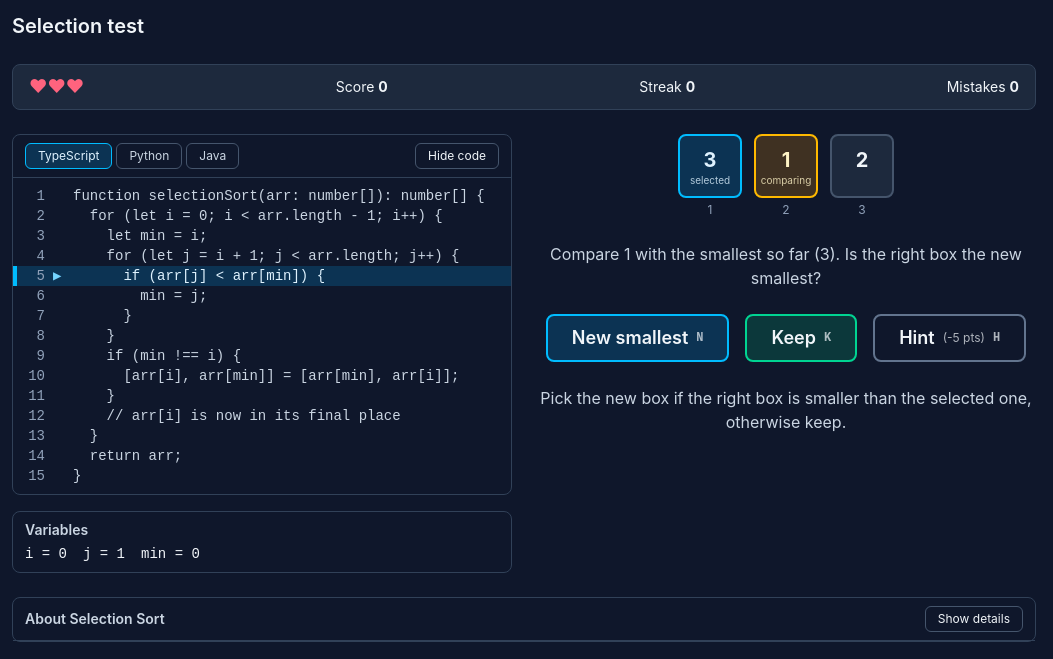
Scenario: PlayScreen with selection sort › a wrong answer costs a life
Step 1. Click the button "Keep K" → {"x": 801, "y": 338}, box x1=746 y1=314 x2=857 y2=362
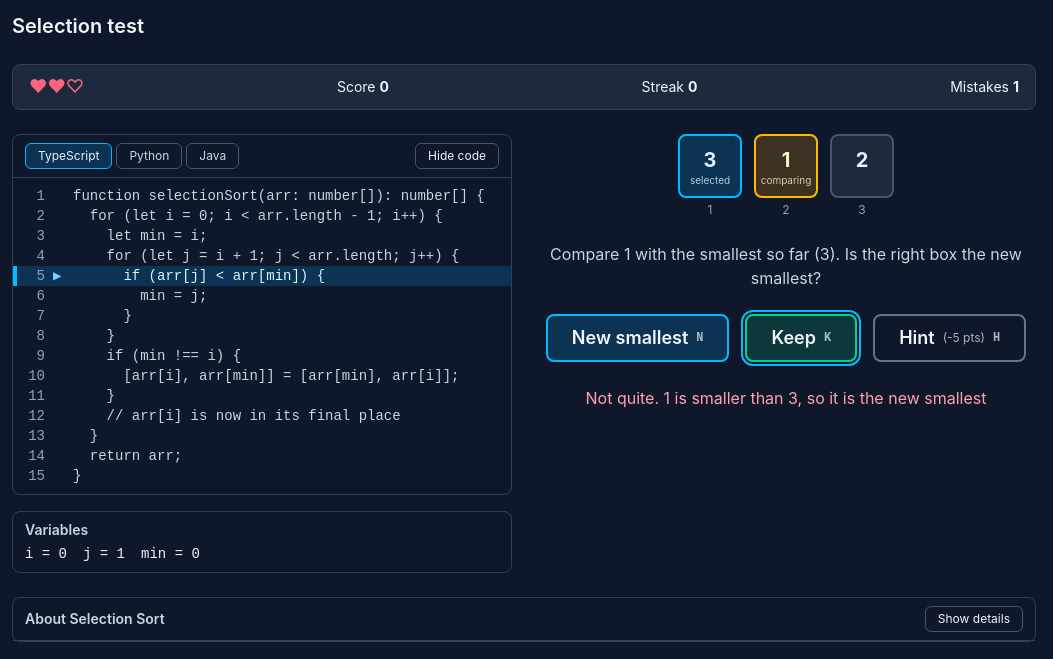
Now the picture named "Lives: 2 of 3" is shown, box x1=29 y1=73 x2=84 y2=101
Now the text "Not quite. 1 is smaller than 3, so it is the new smallest" is shown, box x1=586 y1=388 x2=986 y2=408
